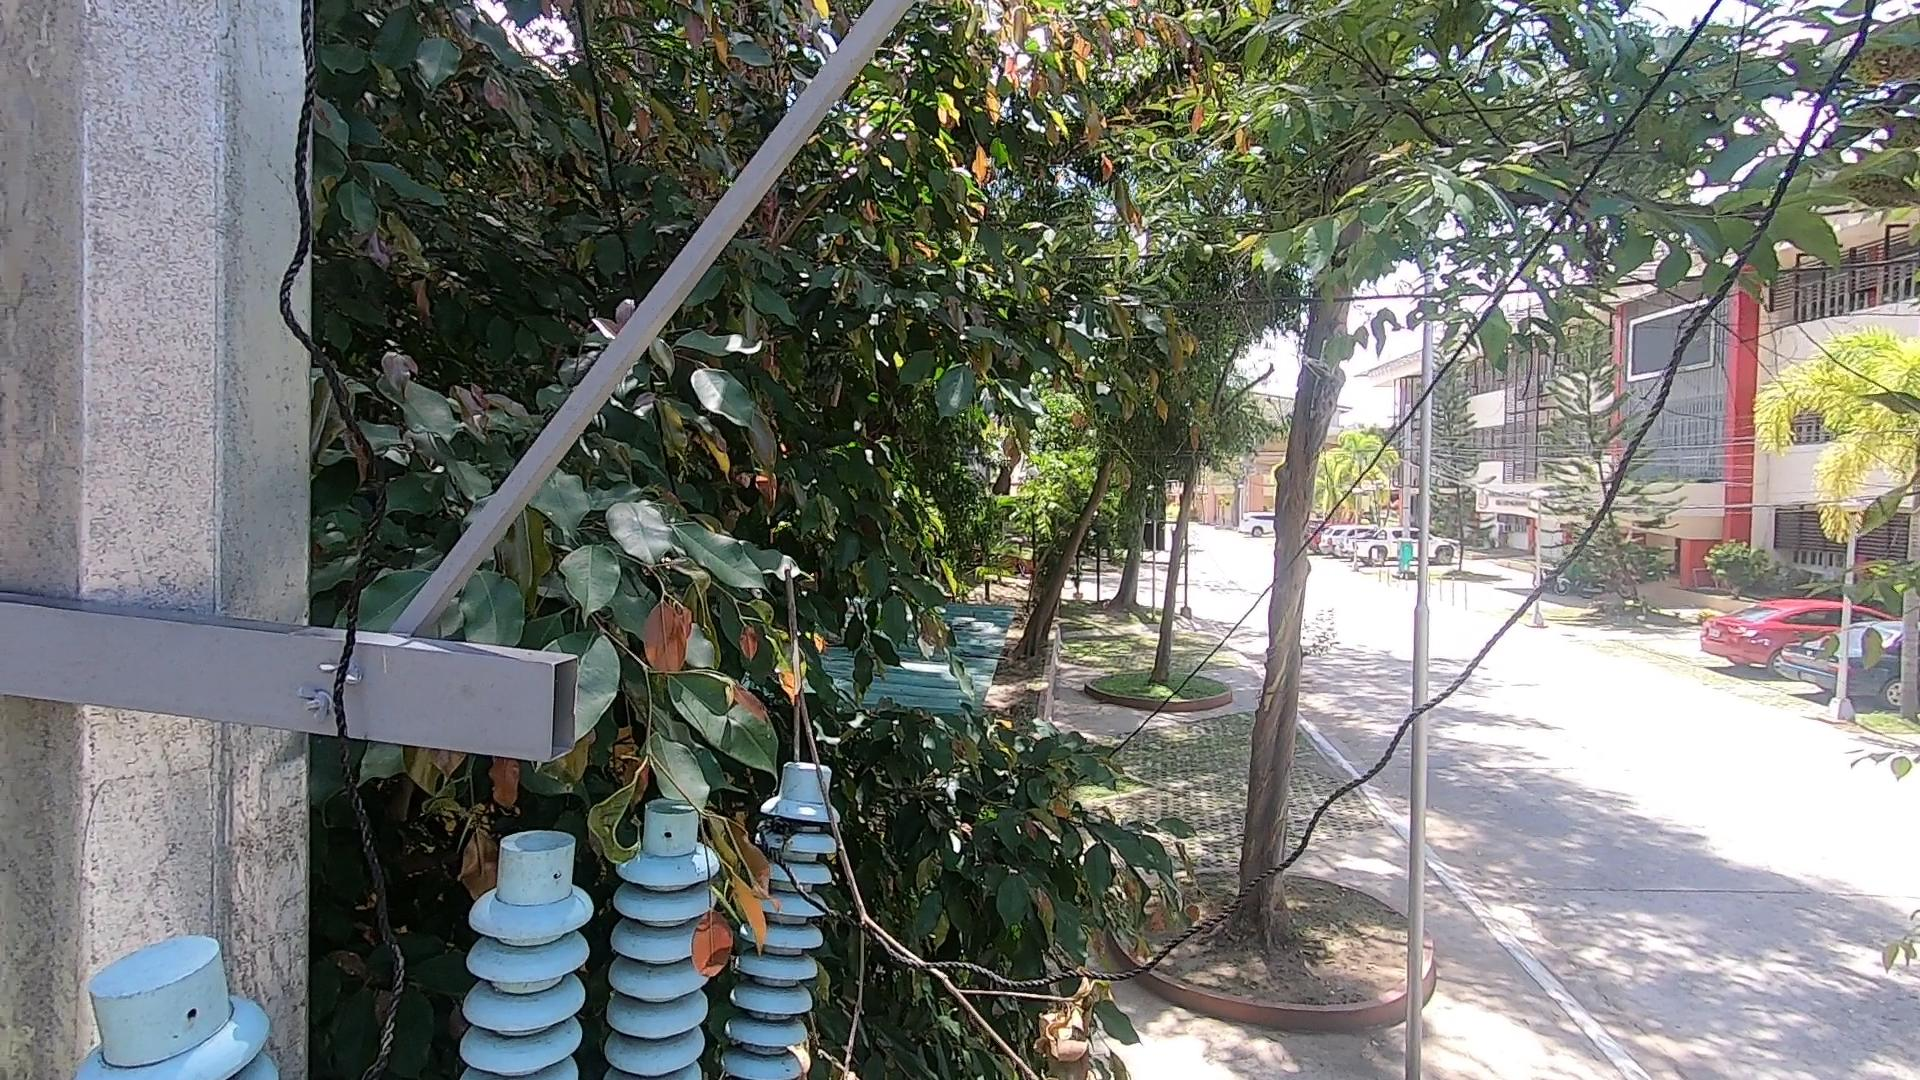branch with leaves: (758, 543, 1171, 1080)
